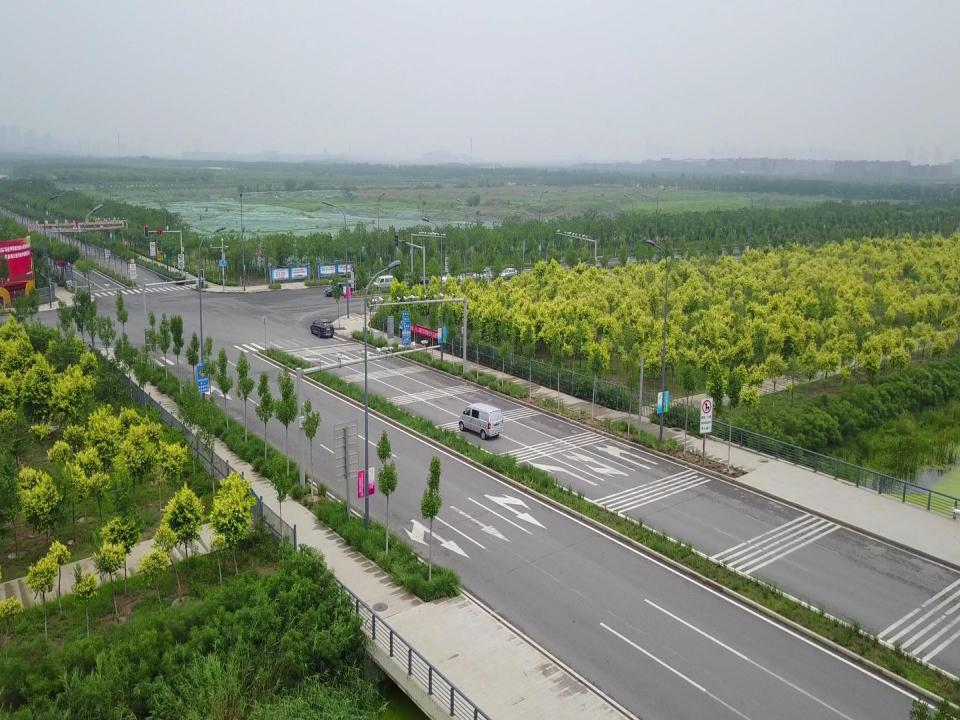car: (310, 318, 334, 338), (324, 282, 352, 297), (404, 275, 428, 288), (470, 268, 492, 281), (440, 271, 462, 284), (346, 277, 364, 291), (498, 267, 518, 279)
van: (458, 402, 504, 440), (372, 275, 394, 289)
